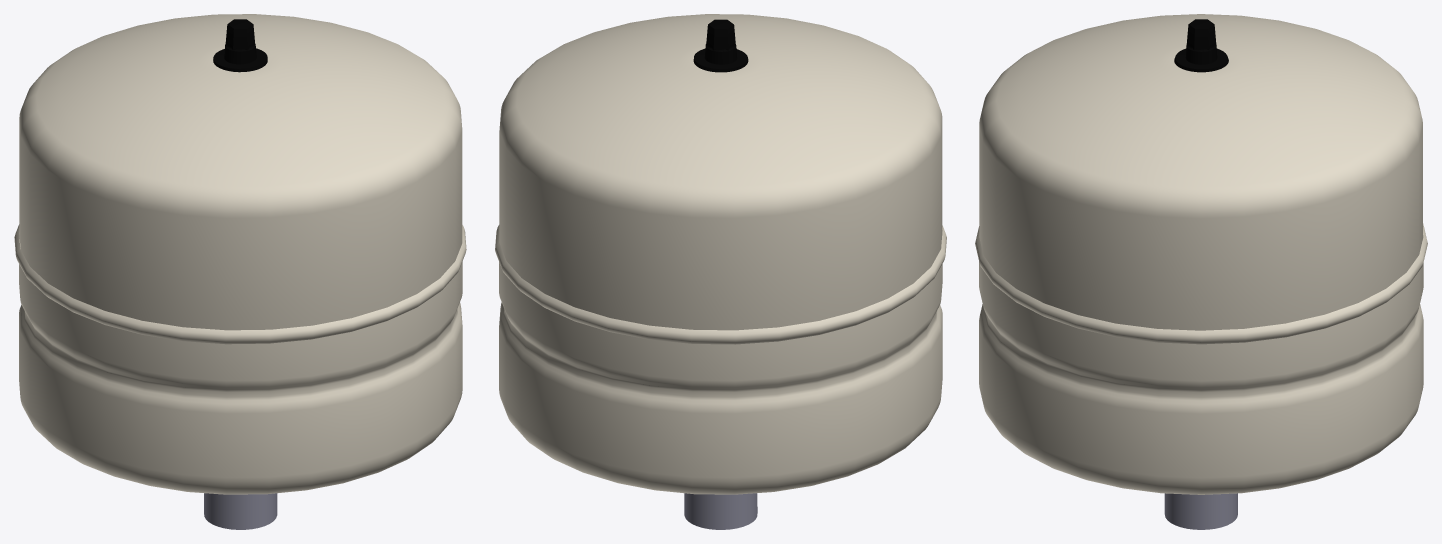
File: 5lt-sabit-tank.fbx
3 views of the same model, side by side, from view 1: azimuth 30°, elevation 25°; view 2: azimuth 150°, elevation 25°; view 3: azimuth 270°, elevation 25° (orthographic).
Parts seen in each view (by area): view 1: 5lt-sabit-tank.006, 5lt-sabit-tank.001, 5lt-sabit-tank.005, 5lt-sabit-tank.007, 5lt-sabit-tank; view 2: 5lt-sabit-tank.006, 5lt-sabit-tank.001, 5lt-sabit-tank.005, 5lt-sabit-tank.007, 5lt-sabit-tank; view 3: 5lt-sabit-tank.006, 5lt-sabit-tank.001, 5lt-sabit-tank.005, 5lt-sabit-tank.007, 5lt-sabit-tank.
Boxes of the visible parts, <box> form: 5lt-sabit-tank.006: <box>19,14,462,330</box>; 5lt-sabit-tank.001: <box>19,239,462,494</box>; 5lt-sabit-tank.005: <box>14,224,466,344</box>; 5lt-sabit-tank.007: <box>204,493,277,529</box>; 5lt-sabit-tank: <box>213,19,267,72</box>; 5lt-sabit-tank.006: <box>499,14,942,330</box>; 5lt-sabit-tank.001: <box>499,262,942,494</box>; 5lt-sabit-tank.005: <box>495,225,946,344</box>; 5lt-sabit-tank.007: <box>684,493,757,529</box>; 5lt-sabit-tank: <box>693,19,748,72</box>; 5lt-sabit-tank.006: <box>979,14,1422,330</box>; 5lt-sabit-tank.001: <box>979,261,1423,494</box>; 5lt-sabit-tank.005: <box>975,223,1427,344</box>; 5lt-sabit-tank.007: <box>1164,493,1237,529</box>; 5lt-sabit-tank: <box>1174,19,1228,72</box>.
Bounding box in the file's own units: 834 × 996 × 834.
